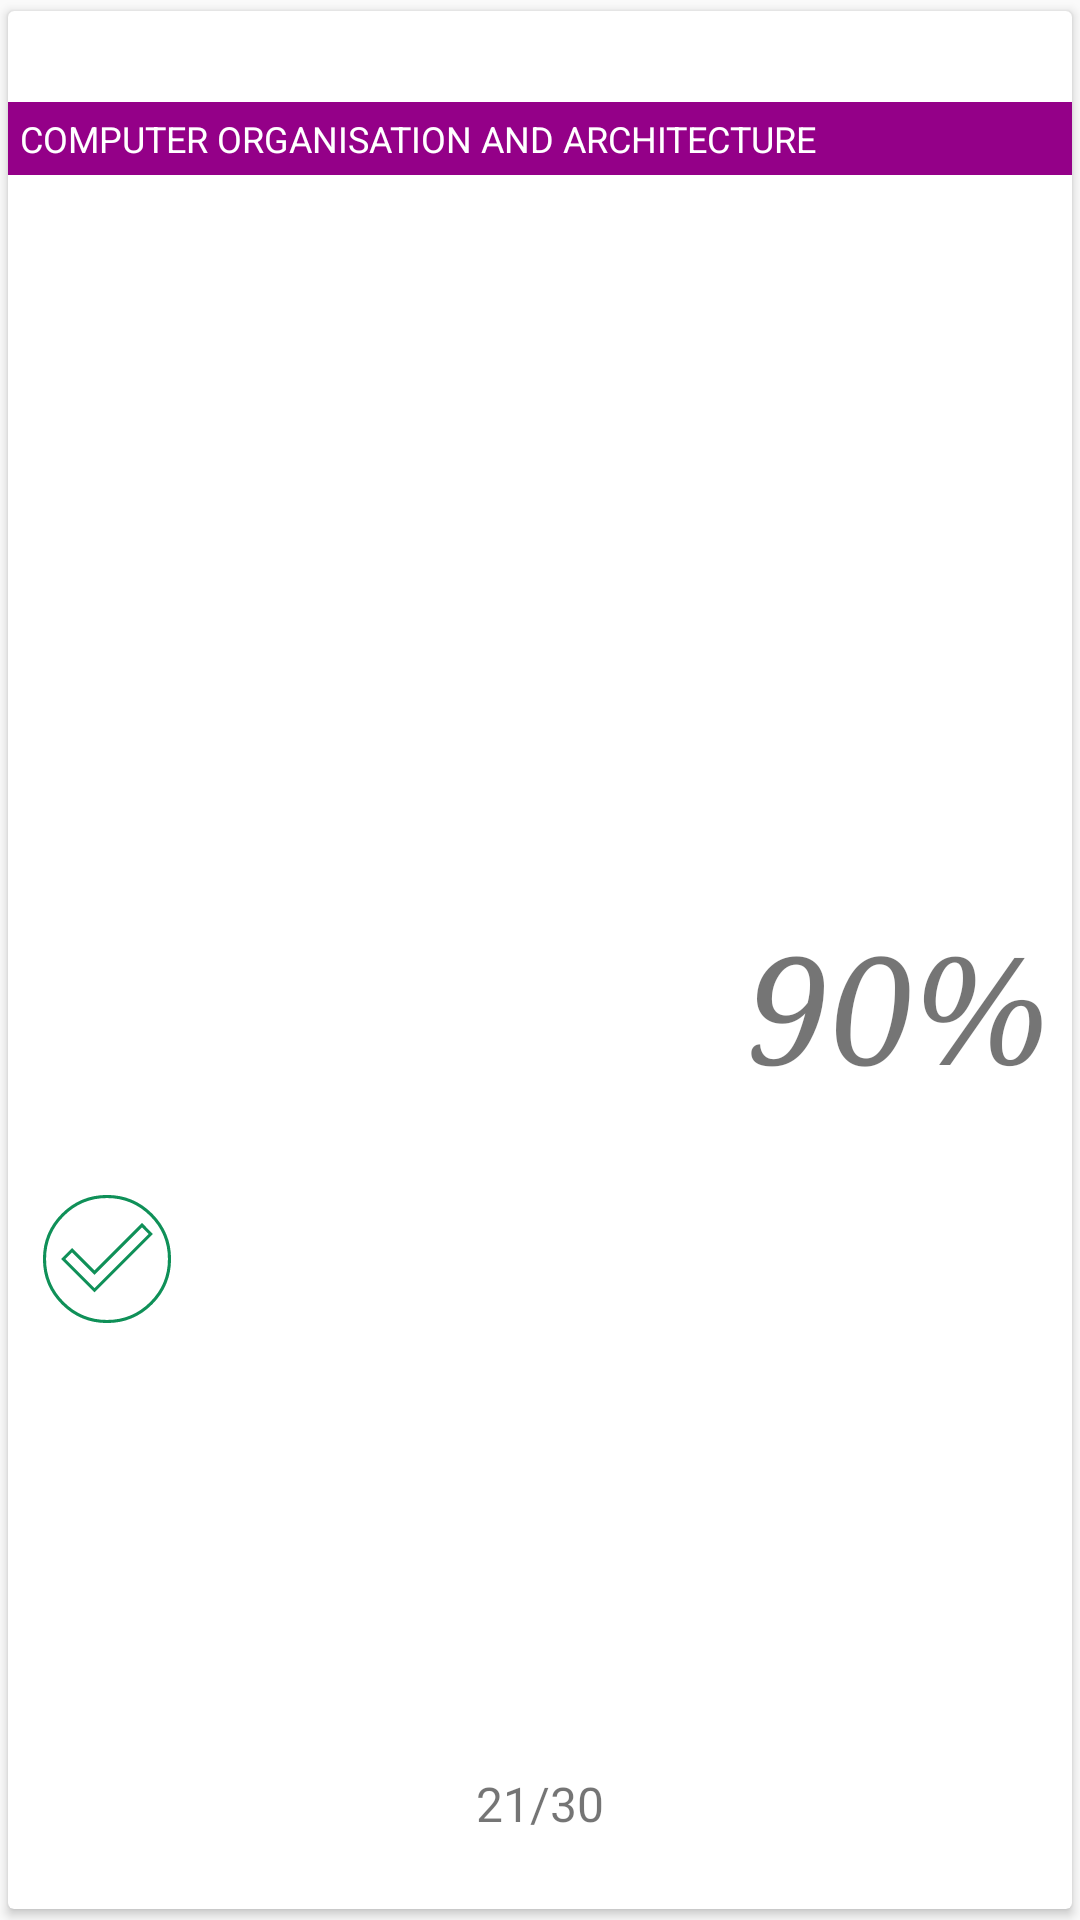

Where icons sit on this 1080px x 1920px app screen, as (x1, y1, x2, y2):
attending: (43, 1195, 171, 1323)
